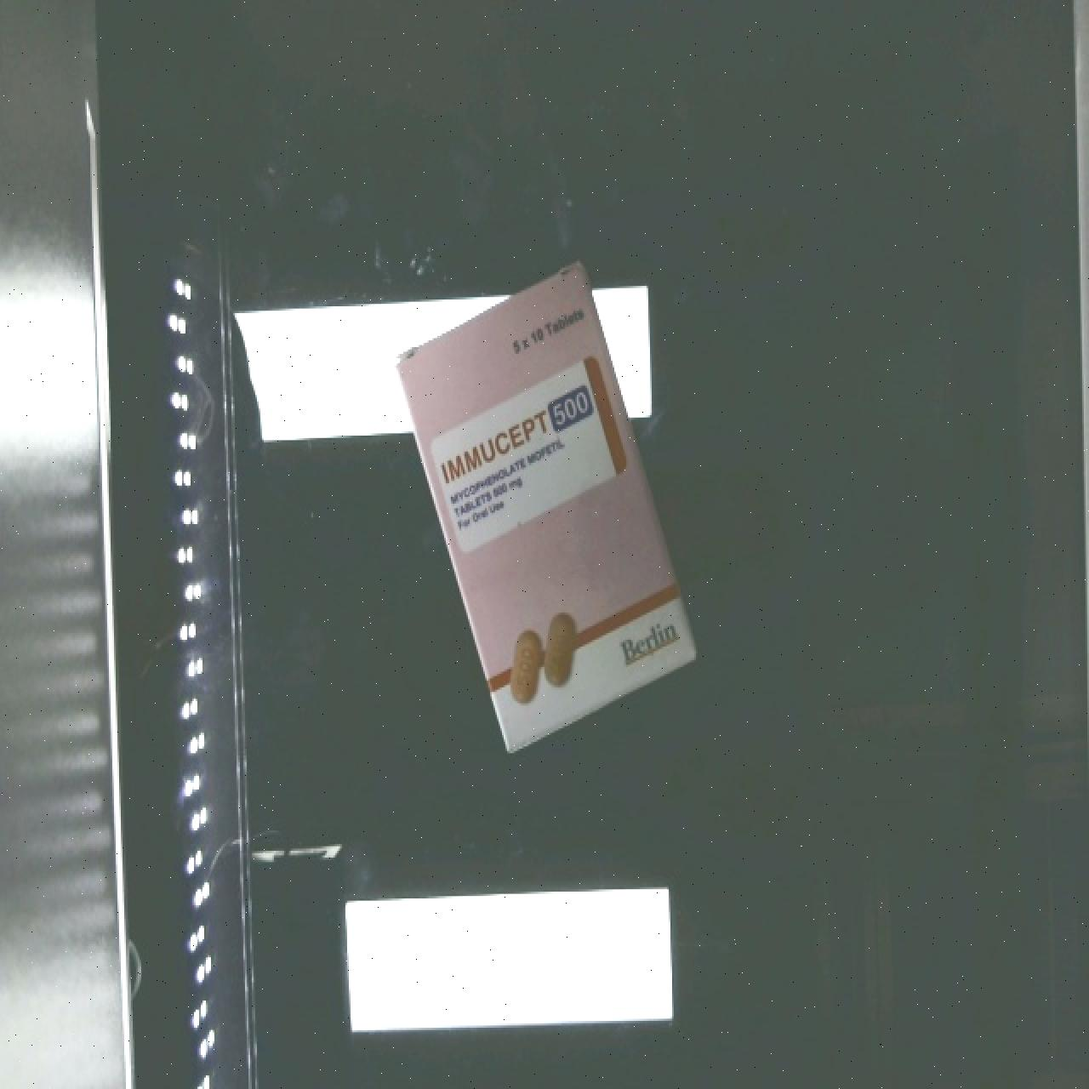medicine_label_obb: (419, 363, 621, 499)
